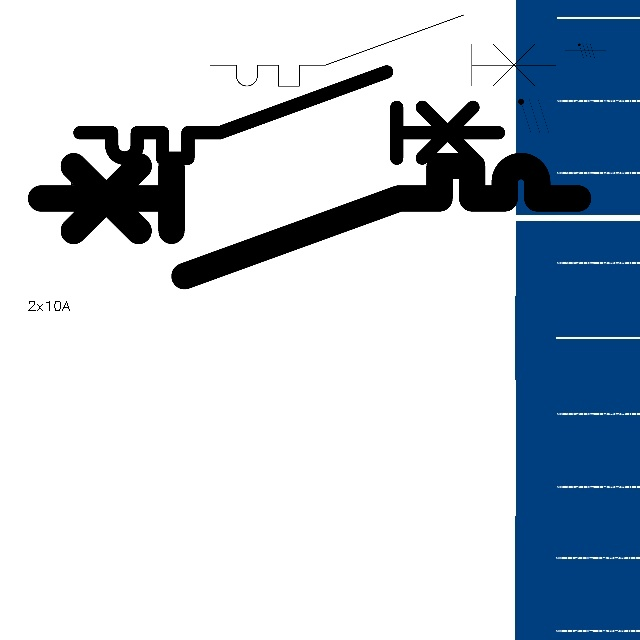interruptor_termomagnetico: (27, 152, 592, 290), (69, 61, 509, 169), (201, 6, 565, 95)
